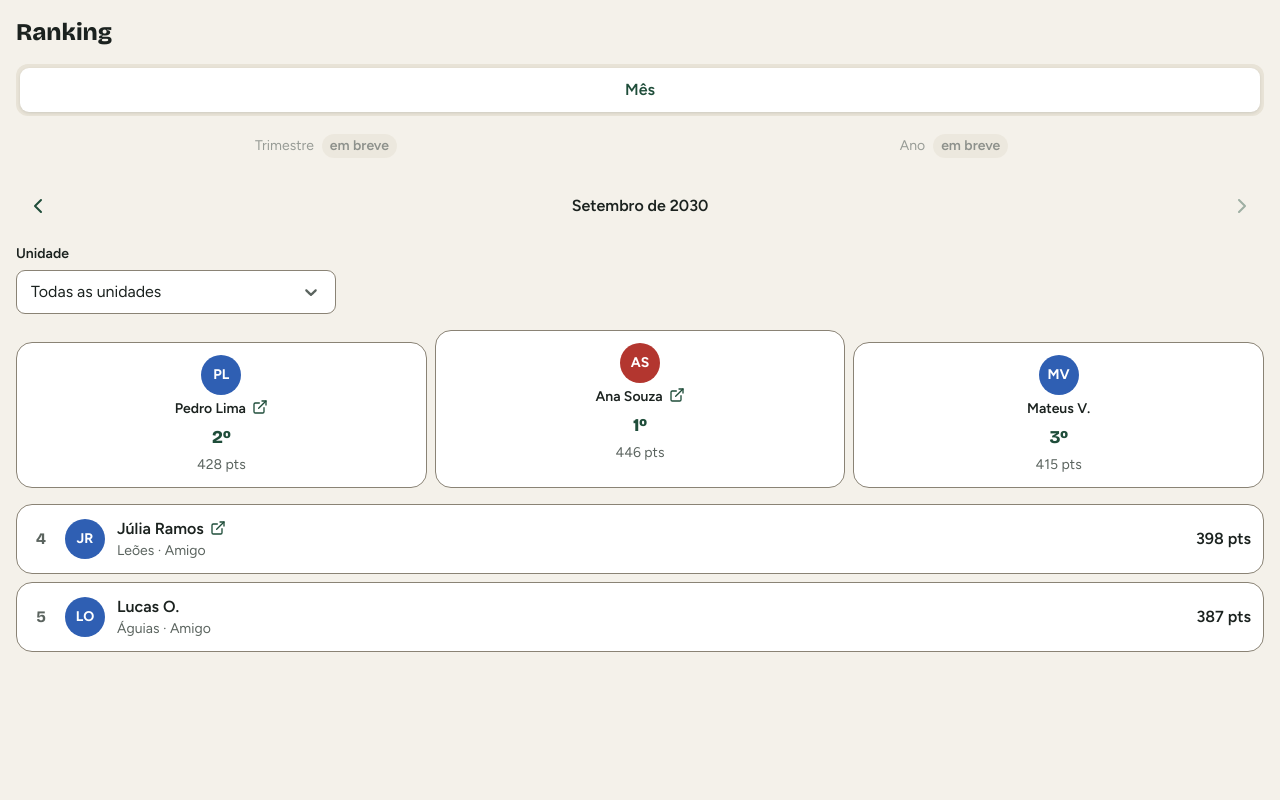
ranking do mês › mês com setas: anterior pede o mês de trás; seguinte fica desligada no mês corrente
This screenshot has width=1280, height=800.
Expected: the text "Setembro de 2030" is shown, [572,194,708,218]
Expected: the button named "Mês seguinte" is disabled, [1220,184,1264,228]
Click the button named "Mês anterior" at (38, 206), box [16,184,60,228]
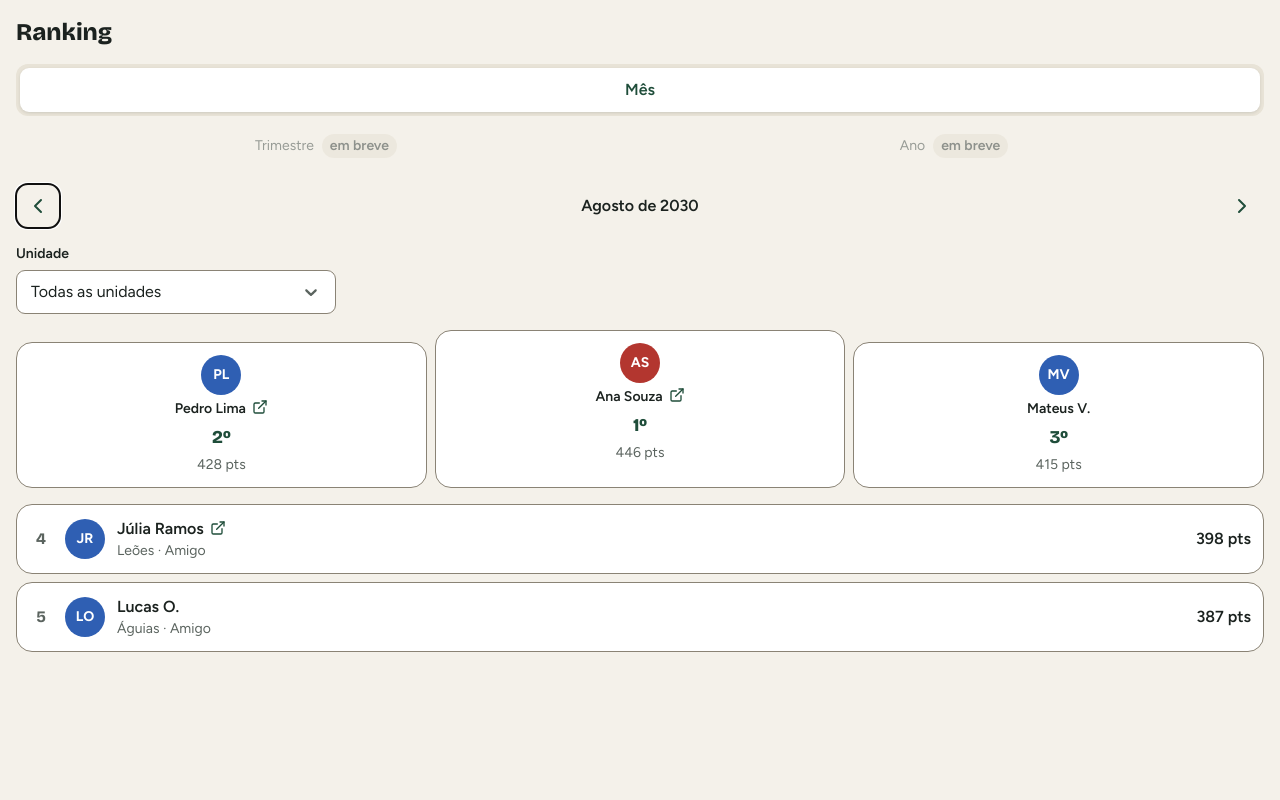
Result: the text "Agosto de 2030" is shown at [581,194,699,218]
Click the button named "Mês seguinte" at (1242, 206), box [1220,184,1264,228]
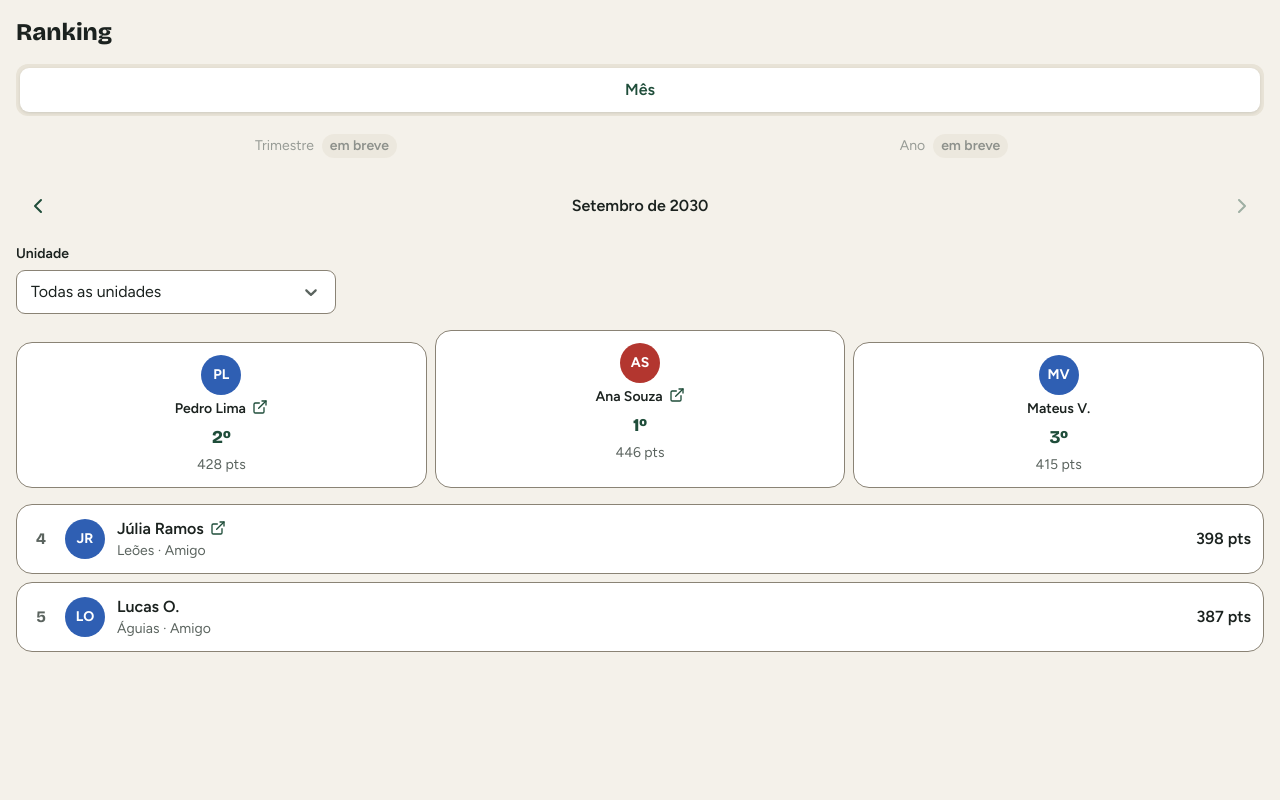
Result: the text "Setembro de 2030" is shown at [572,194,708,218]
Result: the button named "Mês seguinte" is disabled at [1220,184,1264,228]
